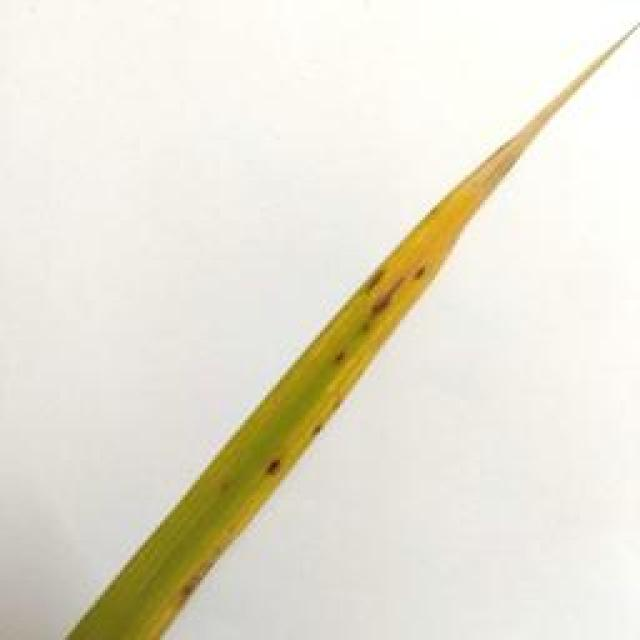Bacterial_Blight: (138, 19, 640, 640)
Brown_Spot: (176, 522, 246, 604), (252, 447, 292, 480), (347, 260, 387, 292), (375, 279, 405, 319), (303, 418, 336, 447), (325, 342, 356, 367), (407, 261, 438, 280)
